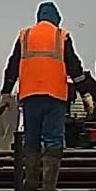gloves: (81, 89, 96, 116), (0, 88, 12, 114)
vest: (17, 21, 69, 101)
